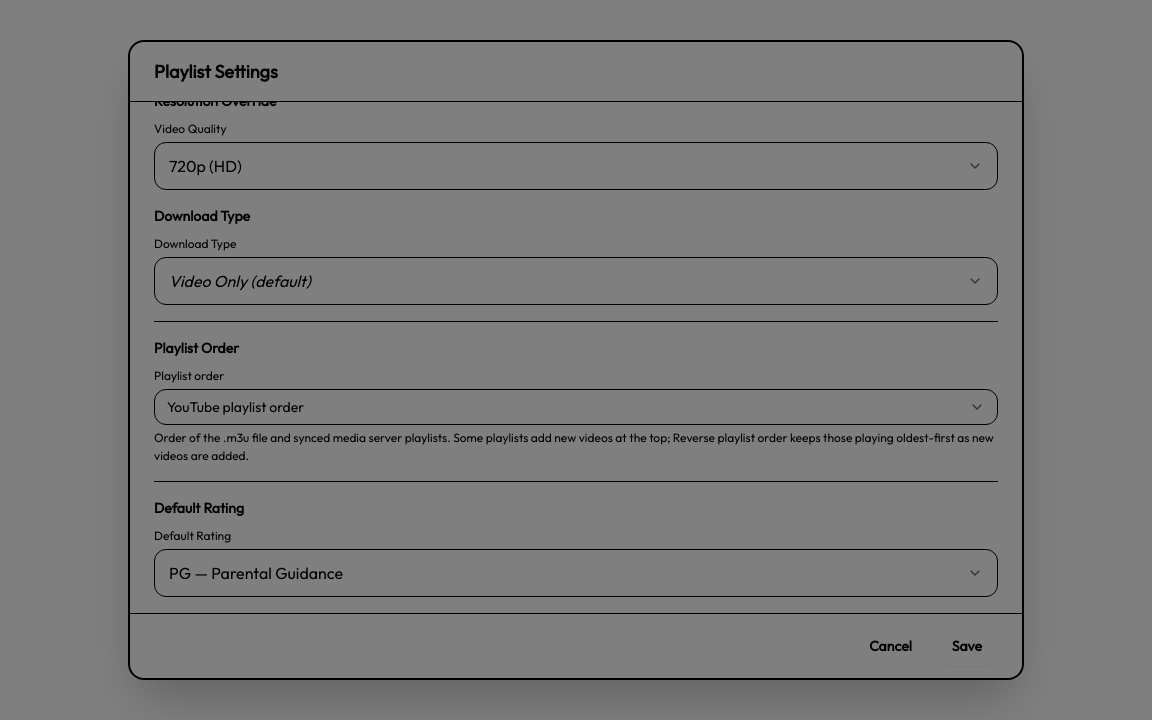
Test case: PlaylistSettingsDialog › reminds the user to re-sync when the playlist order changes
The width and height of the screenshot is (1152, 720).
(page scrolled)
Expected: the text "applies the next time this playlist syncs" is not shown
Press the mouse on the button labelled "YouTube playlist order" at [236, 407], box left=154, top=389, right=998, bottom=425
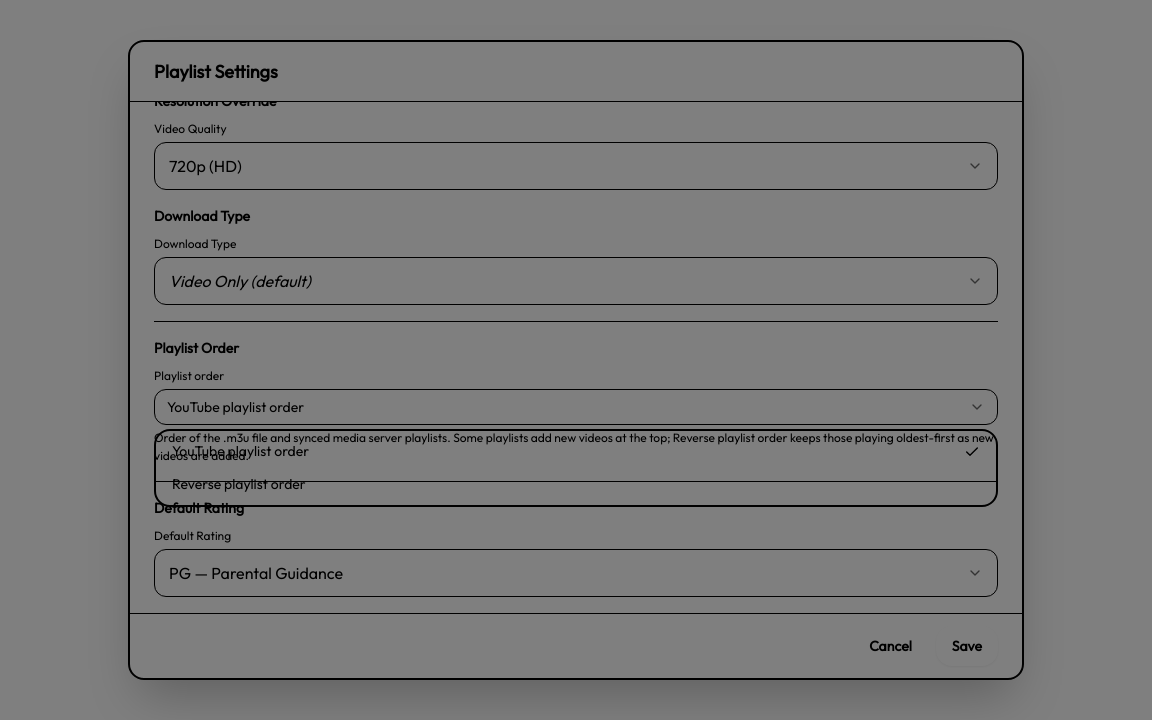
Click the option "Reverse playlist order".
click(239, 484)  # box left=172, top=475, right=306, bottom=493
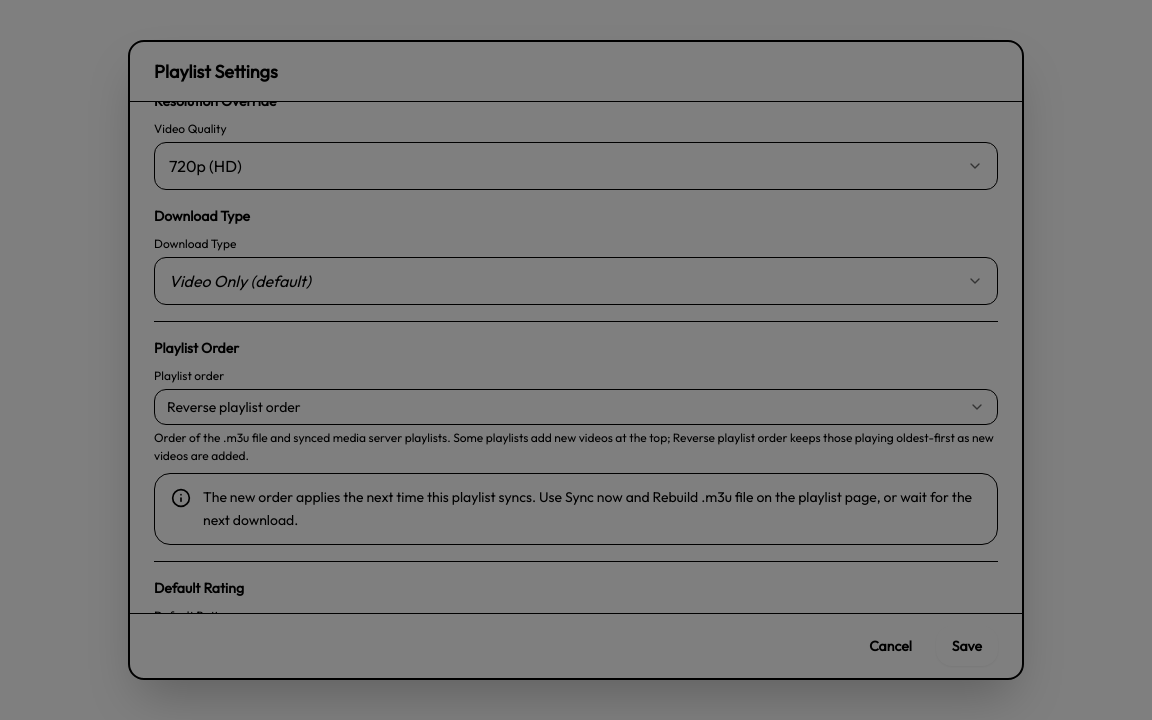
Result: the text "applies the next time this playlist syncs" is shown at left=203, top=488, right=972, bottom=529
